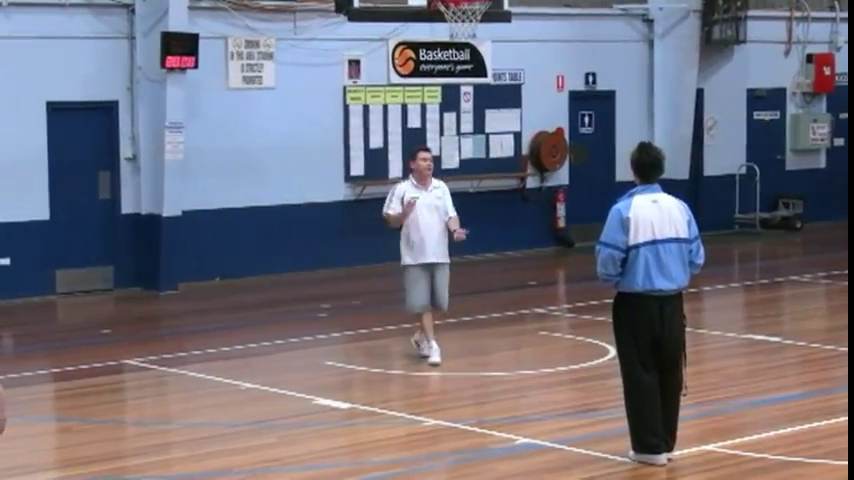person: (594, 141, 706, 466), (382, 145, 469, 367)
